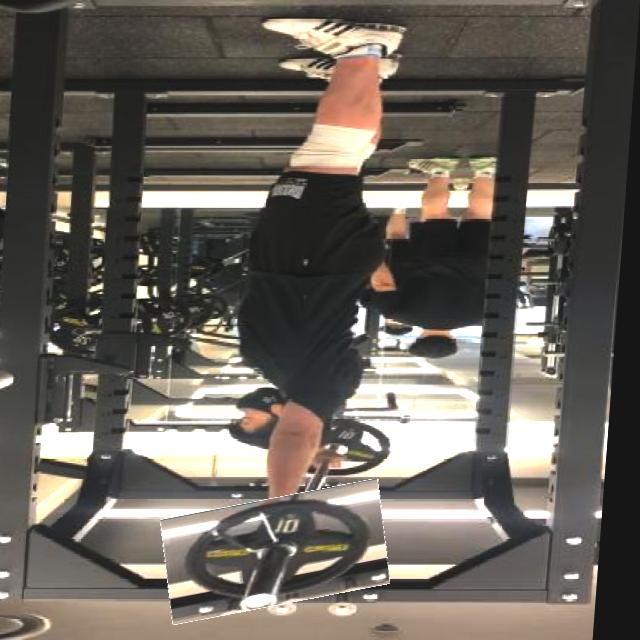barbell: (168, 489, 402, 616)
